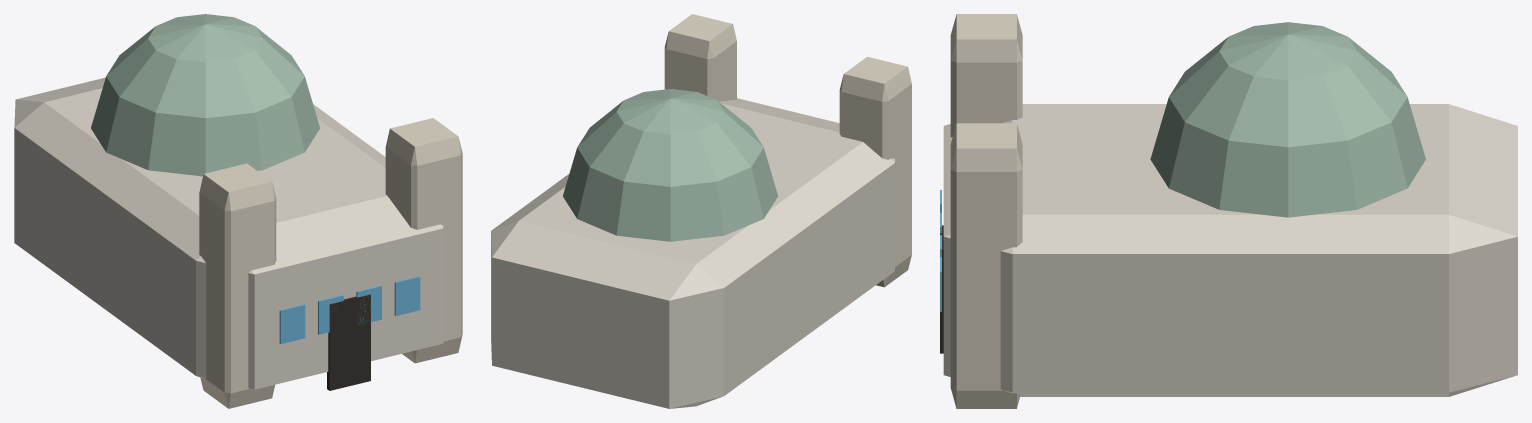
File: church_dome_l.glb
The picture shows the model from 3 angles, left to right: view 1: azimuth 30°, elevation 25°; view 2: azimuth 150°, elevation 25°; view 3: azimuth 270°, elevation 25°; orthographic projection. The views are drawn at different scales.
Parts seen in each view (by area): view 1: walls, dome, ft, ft.001, arch, win, win.003, win.001, win.002; view 2: walls, dome, ft, ft.001; view 3: walls, dome, ft.001, ft.
Part boxes in pixels (<box>): walls: <box>14,77,443,389</box>; dome: <box>91,14,319,176</box>; ft: <box>199,163,276,408</box>; ft.001: <box>385,118,462,363</box>; arch: <box>327,294,370,390</box>; win: <box>279,304,305,343</box>; win.003: <box>394,276,420,315</box>; win.001: <box>318,295,343,334</box>; win.002: <box>356,285,381,324</box>; walls: <box>491,98,894,408</box>; dome: <box>563,89,777,241</box>; ft: <box>839,56,911,287</box>; ft.001: <box>664,14,736,101</box>; walls: <box>943,104,1517,396</box>; dome: <box>1150,22,1425,217</box>; ft.001: <box>950,123,1022,408</box>; ft: <box>950,14,1022,137</box>.
Bounding box in the file's own units: 16.2 × 15.93 × 27.17.
